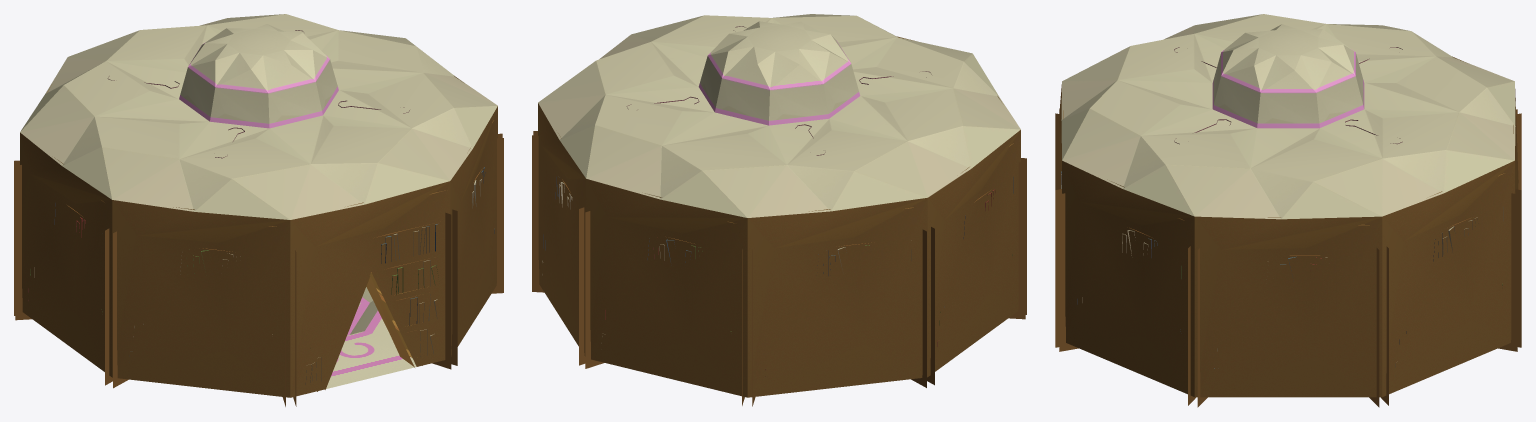
File: YouXiZhuJieMian.FBX
3 views of the same model, side by side, from view 1: azimuth 30°, elevation 25°; view 2: azimuth 150°, elevation 25°; view 3: azimuth 270°, elevation 25° (orthographic).
Parts seen in each view (by area): view 1: wall, bookshelf, door_2, YouXiZhuJieMian, door_1; view 2: wall, bookshelf, YouXiZhuJieMian; view 3: wall, bookshelf, YouXiZhuJieMian.
Boxes of the visible parts, box(x1,y1,x2,y2) form: wall: box(20, 14, 497, 397); bookshelf: box(14, 133, 503, 406); door_2: box(107, 30, 416, 388); YouXiZhuJieMian: box(28, 167, 494, 384); door_1: box(347, 287, 377, 335); wall: box(538, 14, 1020, 397); bookshelf: box(532, 131, 1026, 406); YouXiZhuJieMian: box(542, 177, 1013, 376); wall: box(1058, 14, 1518, 397); bookshelf: box(1055, 109, 1521, 407); YouXiZhuJieMian: box(1061, 171, 1503, 375).
Size of the model in its own units: 896 by 578 by 896.
